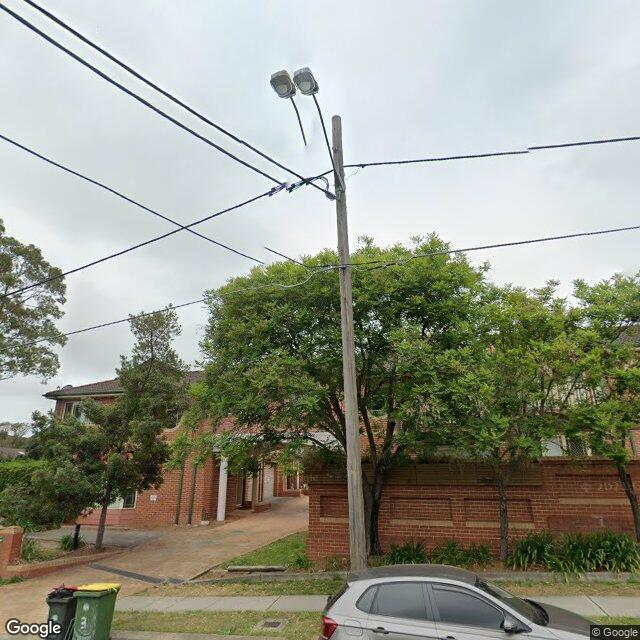streetlight: (269, 65, 346, 189)
timber-pole: (331, 114, 368, 573)
